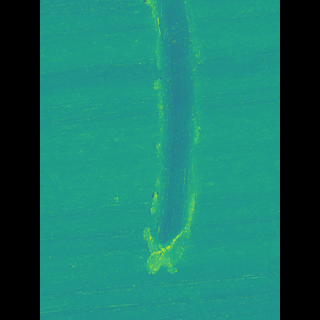Loch: (146, 0, 194, 277)
